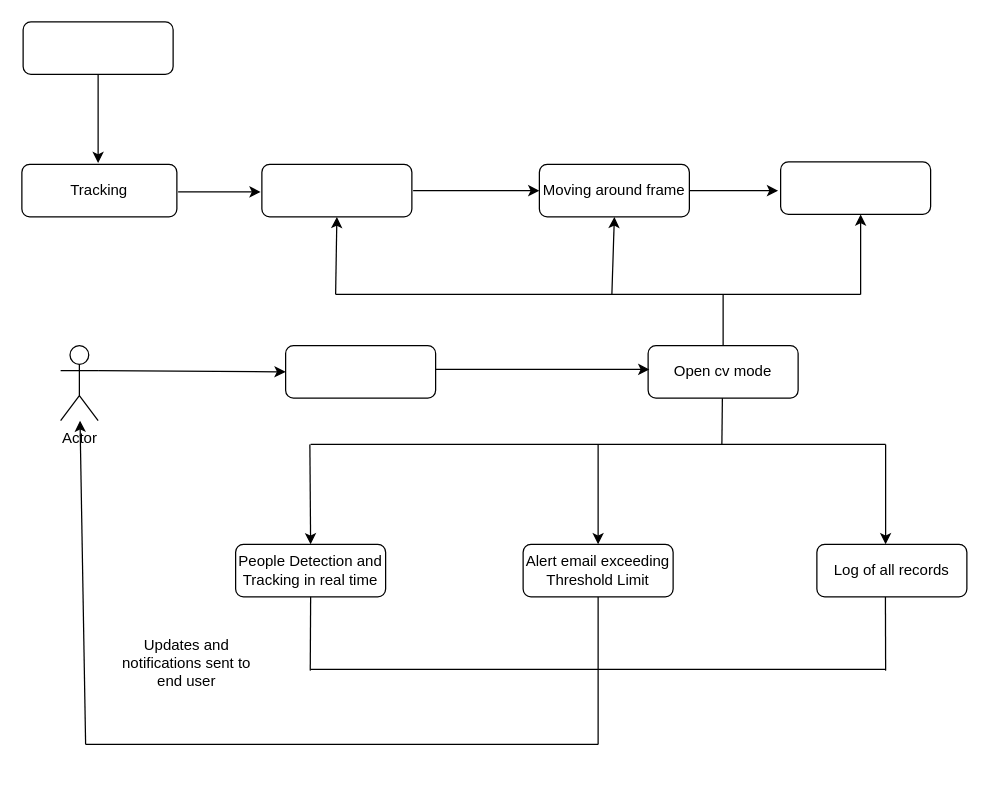
Some shapes in this 989 by 791 pixel diagram are drawn without their labels. The shapes that lost their labels are listed below. From the top down, each one's box as (x1, y1, x2, y2) in pixels, then its label:
(22, 21, 173, 74): Detecting
(261, 163, 412, 217): Track Objects
(779, 161, 931, 214): Continue till Nth frame
(284, 344, 436, 398): Input Video
